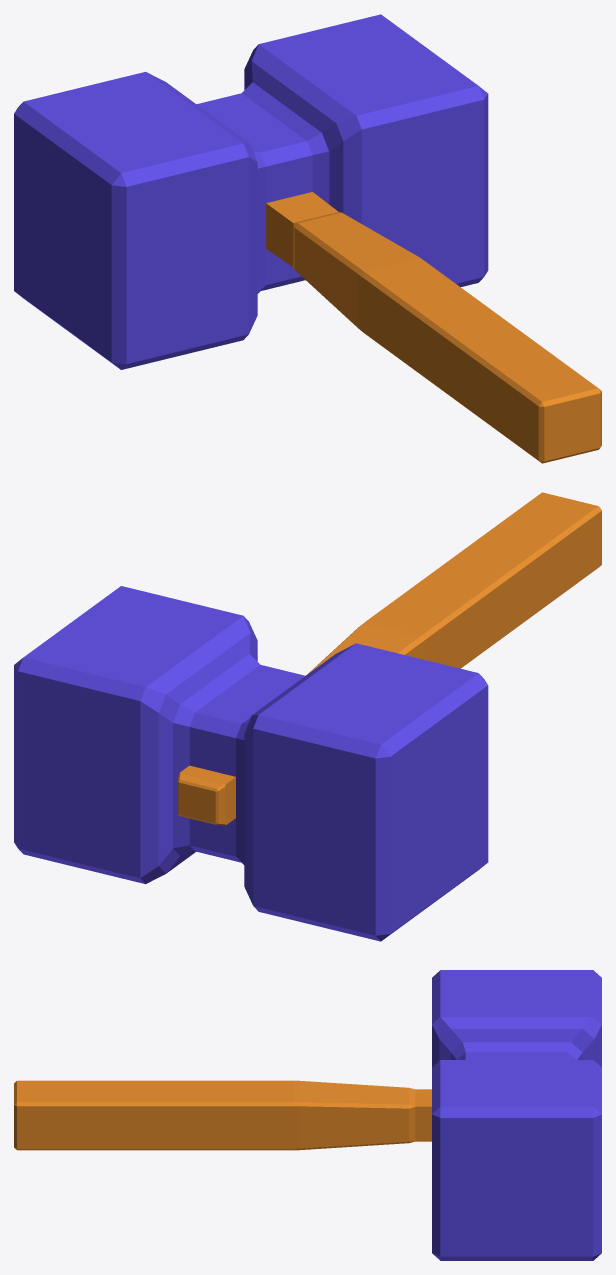
Rendered from BodyShop_hammer_02.fbx.
3 views of the same model, one above another, from view 1: azimuth 30°, elevation 25°; view 2: azimuth 150°, elevation 25°; view 3: azimuth 270°, elevation 25° (orthographic). The views are drawn at different scales.
Visible parts, largest first — view 1: hammer; view 2: hammer; view 3: hammer.
Boxes of the visible parts, <box> form: hammer: <box>14,14,601,463</box>; hammer: <box>14,492,601,941</box>; hammer: <box>14,970,601,1260</box>.
Size of the model in its own units: 387 by 194 by 669.
